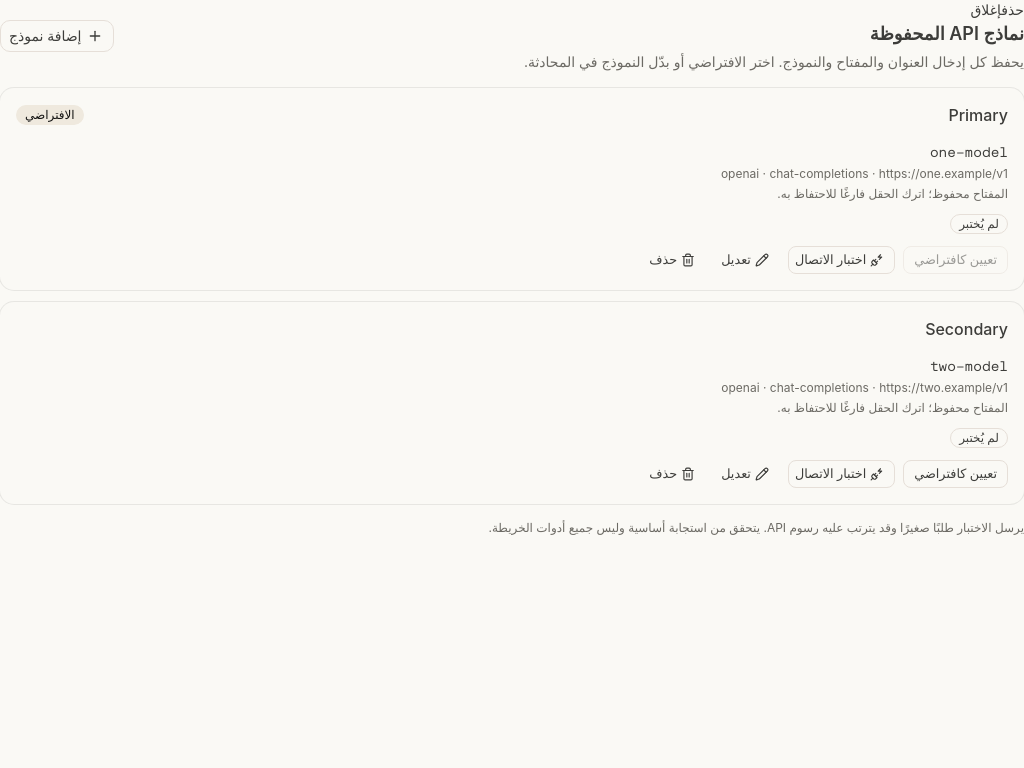
Test case: API profile settings › labels the delete-dialog close action in ar
Click the button "حذف" below "https://two.example/v1" at (674, 474), box [642, 460, 706, 488]
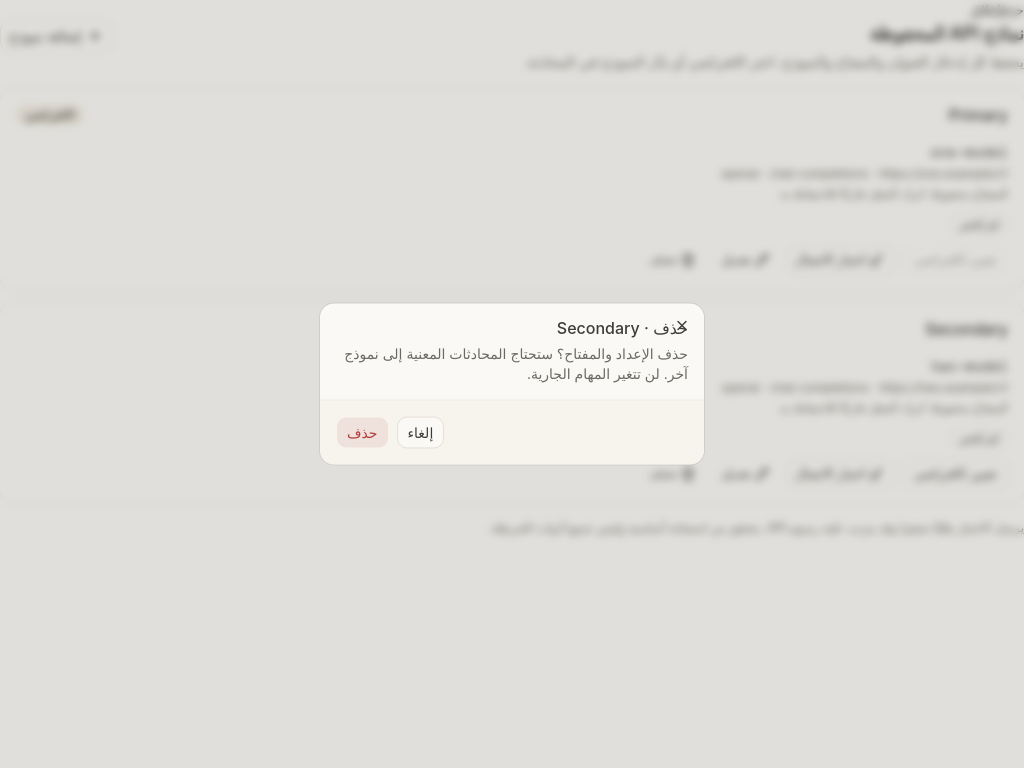
Click the button named "إغلاق" at (682, 326), box [668, 312, 696, 340]
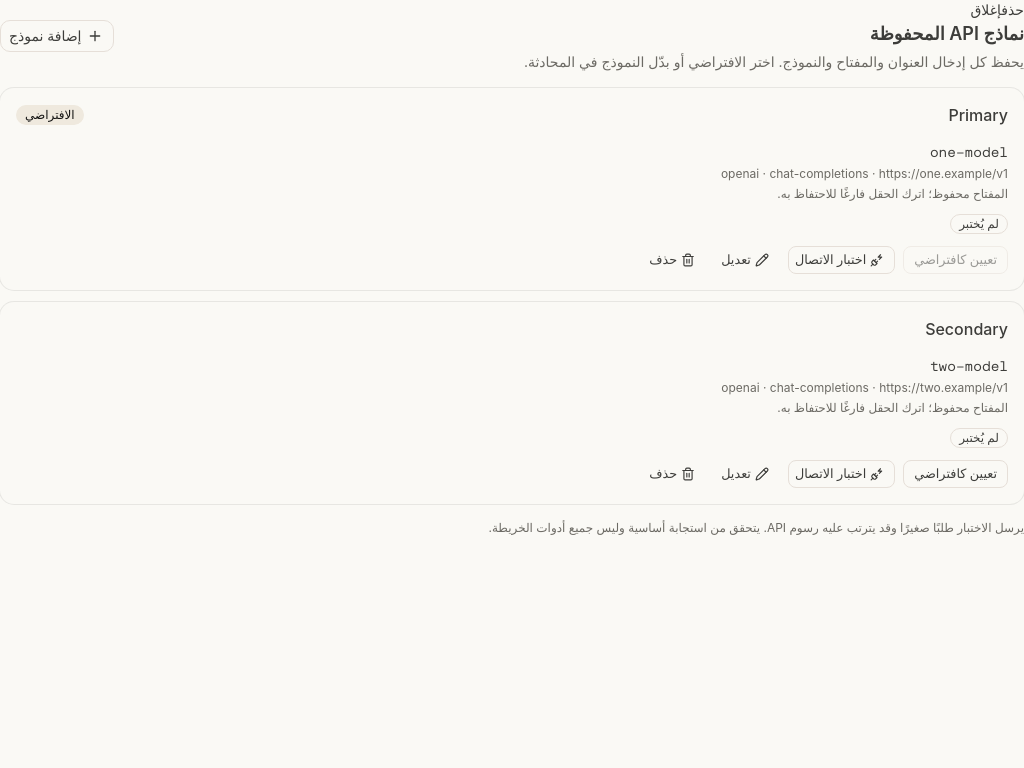
Expected: the dialog is gone
